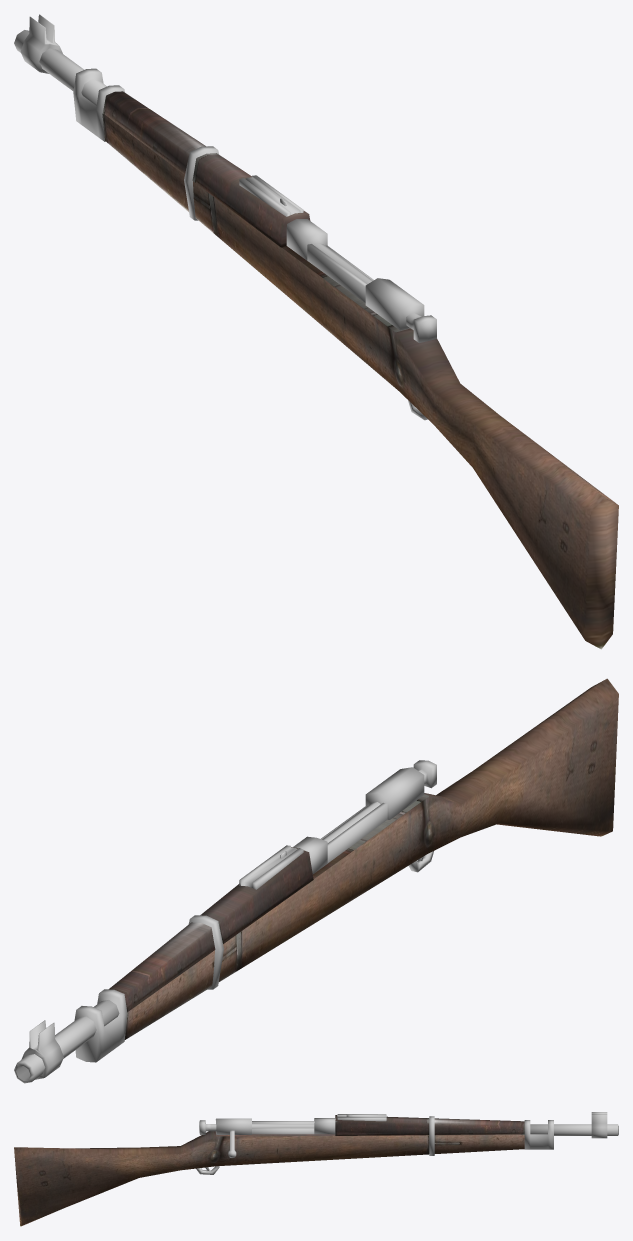
3 views of the same model, one above another, from view 1: azimuth 30°, elevation 25°; view 2: azimuth 150°, elevation 25°; view 3: azimuth 270°, elevation 25° (orthographic). The views are drawn at different scales.
Parts seen in each view (by area): view 1: M1903Rifle, Cube.001; view 2: M1903Rifle, Cube.001; view 3: M1903Rifle, Cube.001.
Part boxes in pixels (left/top/right/bottom): M1903Rifle: left=14, top=14, right=618, bottom=649; Cube.001: left=314, top=243, right=436, bottom=342; M1903Rifle: left=14, top=678, right=618, bottom=1083; Cube.001: left=322, top=760, right=436, bottom=842; M1903Rifle: left=14, top=1112, right=618, bottom=1226; Cube.001: left=199, top=1120, right=314, bottom=1157.
Size of the model in its own units: 191 by 756 by 3651.
